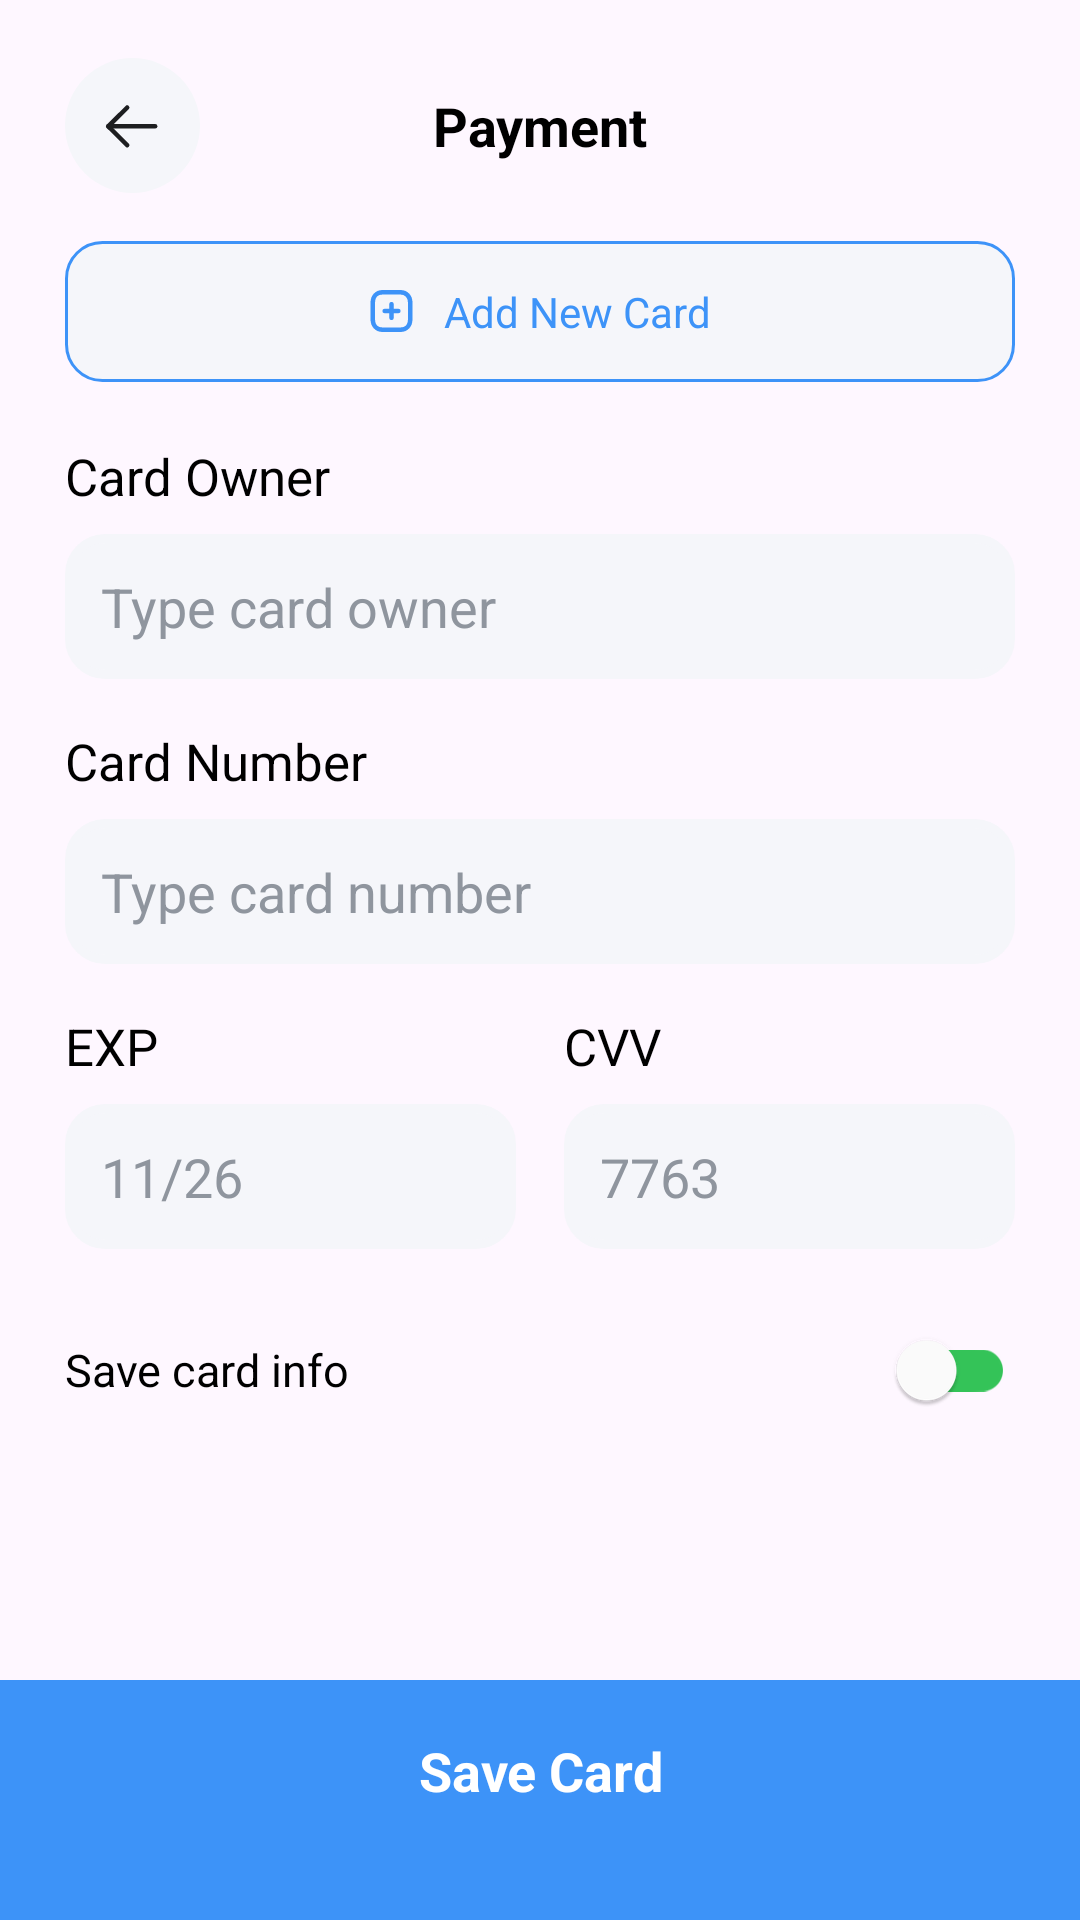

Screen size 1080 × 1920. Icon name, then its center in pixels as (x,y):
back: (132,125)
